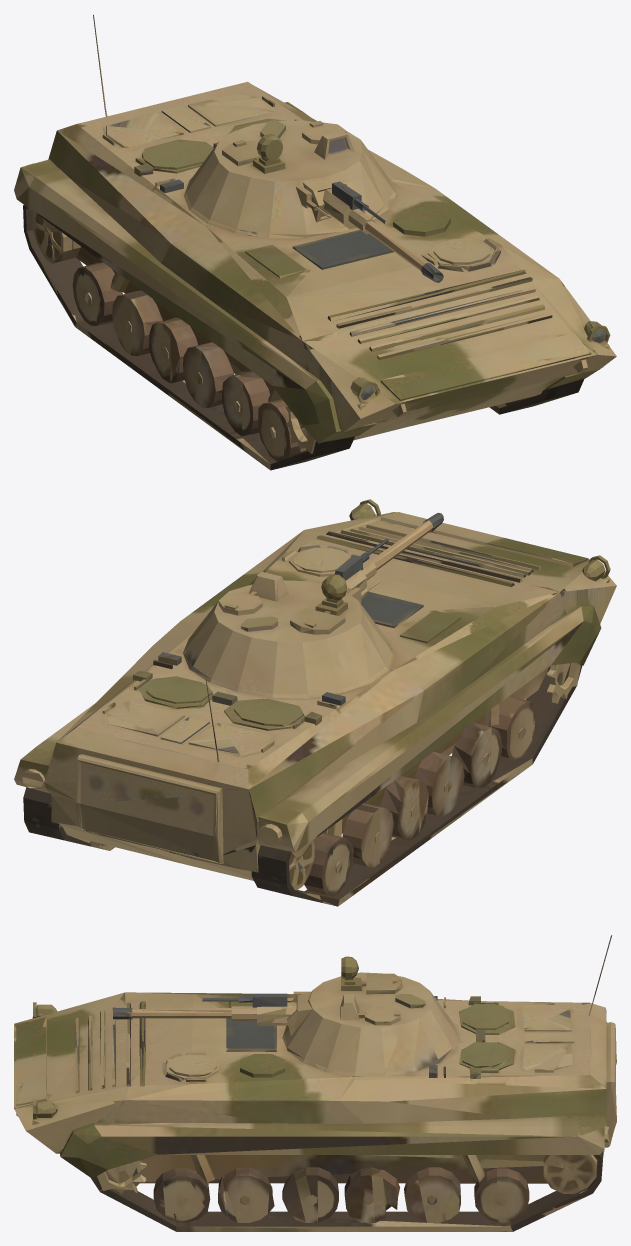
The model's file is golan73_syrian_mech_0.glb.
The picture shows the model from 3 angles, top to bottom: view 1: azimuth 30°, elevation 25°; view 2: azimuth 150°, elevation 25°; view 3: azimuth 270°, elevation 25°; orthographic projection. The views are drawn at different scales.
Parts seen in each view (by area): view 1: geometry_0; view 2: geometry_0; view 3: geometry_0.
Part boxes in pixels (x1=…): geometry_0: x1=14, y1=14, x2=616, y2=470; geometry_0: x1=14, y1=499, x2=616, y2=906; geometry_0: x1=14, y1=935, x2=616, y2=1231.
Bounding box in the file's own units: 0.4329 × 0.3726 × 0.9358.
Materials: 1 (1 with a texture image).
